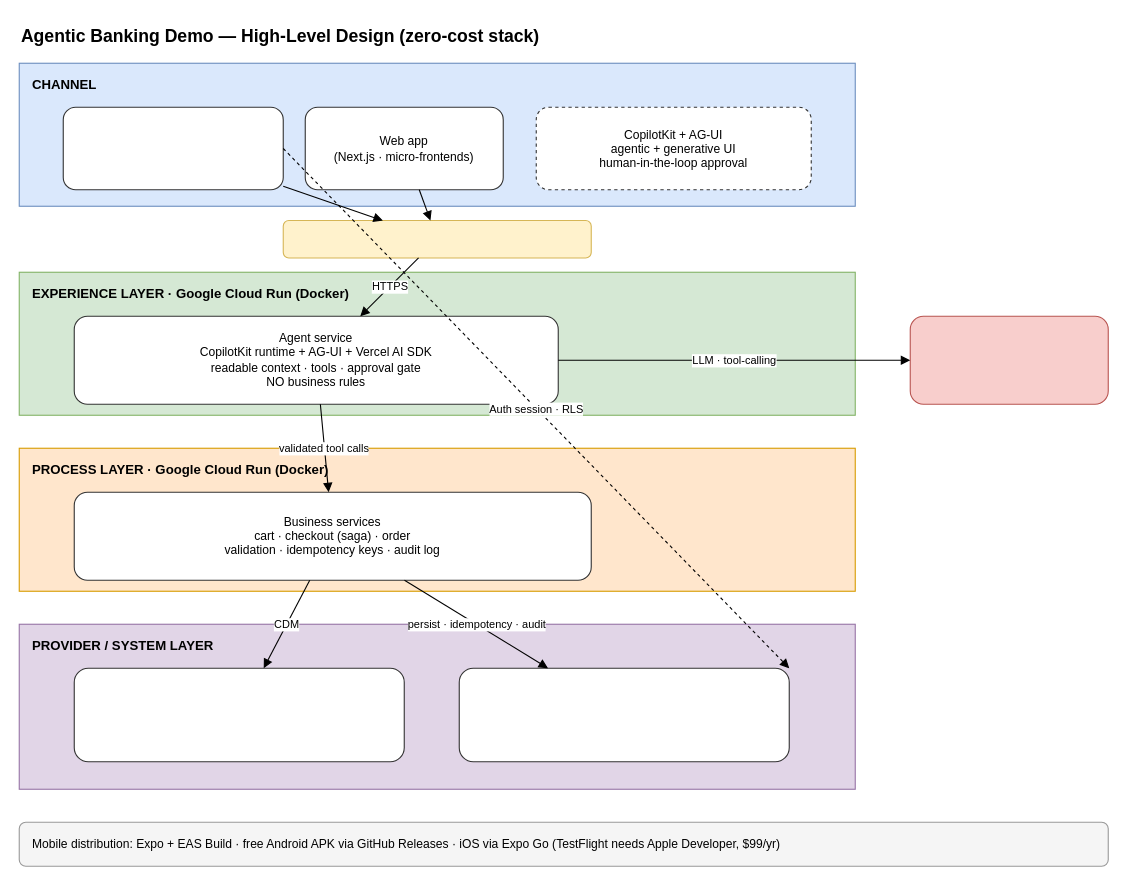
The diagram is 1128 pixels wide and 886 high, and some of its shapes have lost their labels. Each missing label, with the centre of its shape:
"Cloudflare — DNS · TLS · CDN (fronts Cloud Run)" goes at (x=436, y=238).
"Gemini Google AI Studio API (free tier)" goes at (x=1008, y=359).
"Mobile app (Expo · React Native) — current focus —" goes at (x=172, y=148).
"Mock provider services catalogue · payment-mock (CDM-lite adapters)" goes at (x=238, y=714).
"Supabase Postgres · Auth · RLS (system of record)" goes at (x=623, y=714).
